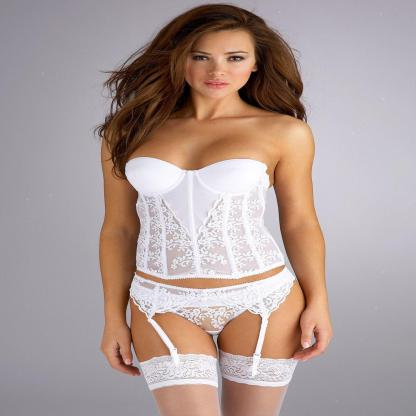long-hair: (99, 97, 315, 119)
